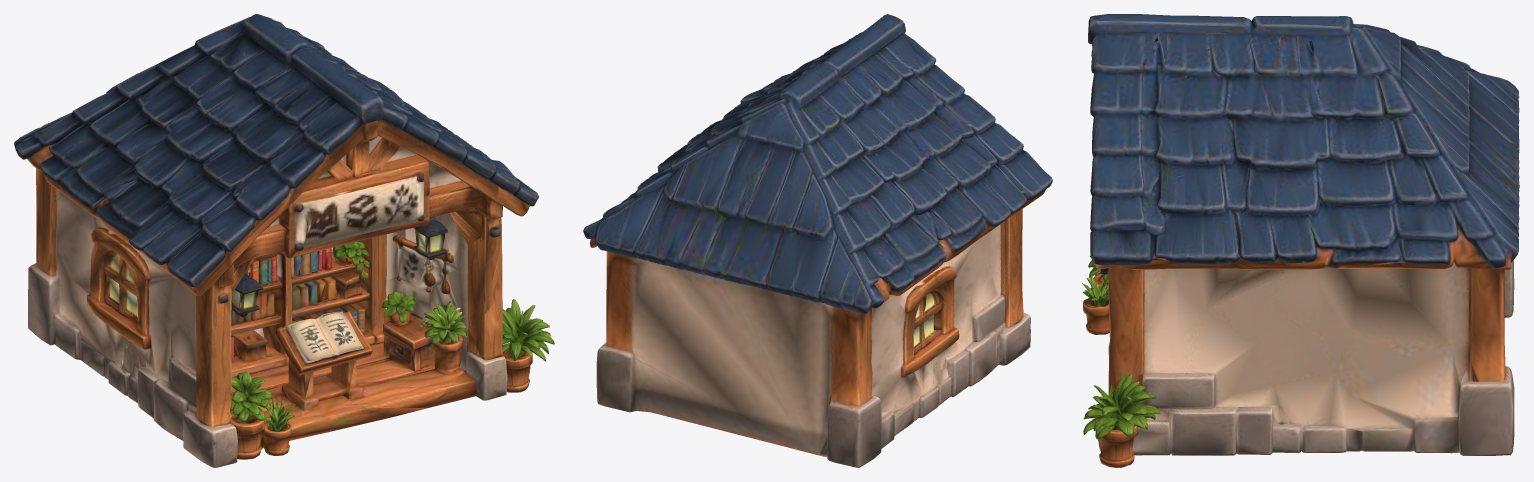
Rendered from book_library_hut.glb.
3 renders of one model, left to right at view 1: azimuth 30°, elevation 25°; view 2: azimuth 150°, elevation 25°; view 3: azimuth 270°, elevation 25°, orthographic. The views are drawn at different scales.
Visible parts, largest first — view 1: book_library_hut; view 2: book_library_hut; view 3: book_library_hut.
Boxes of the visible parts, x1=… form: book_library_hut: x1=14, y1=14, x2=554, y2=467; book_library_hut: x1=583, y1=14, x2=1052, y2=467; book_library_hut: x1=1082, y1=14, x2=1519, y2=467.
Size of the model in its own units: 2.78 by 2.4 by 2.61.
1 material, 1 textured.
